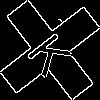K: (25, 25, 82, 79)
